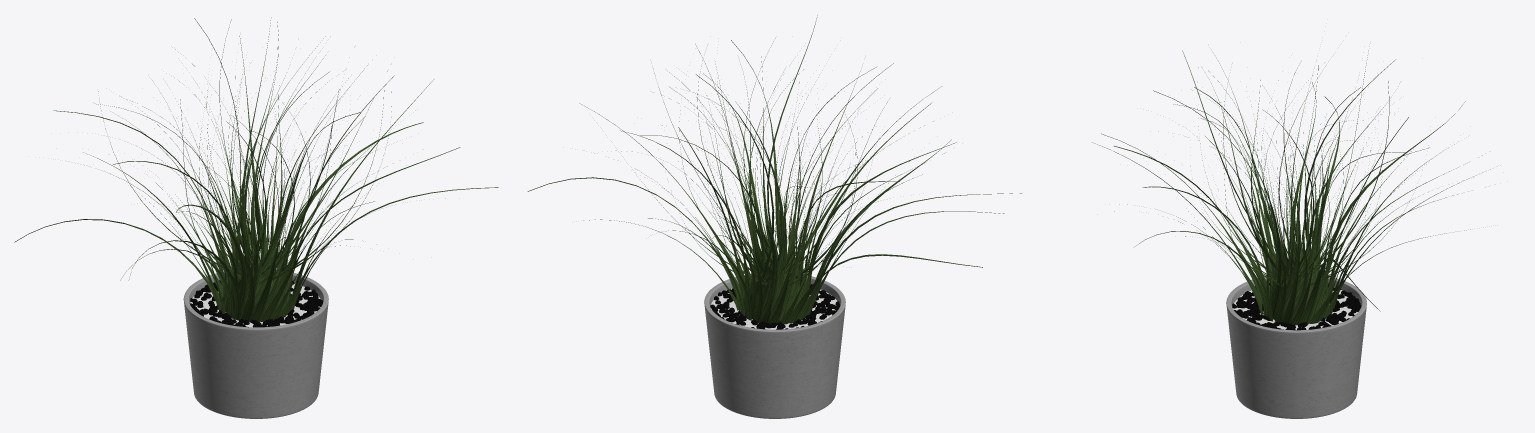
Rendered from plant3.gltf.
3 renders of one model, left to right at view 1: azimuth 30°, elevation 25°; view 2: azimuth 150°, elevation 25°; view 3: azimuth 270°, elevation 25°, orthographic. The views are drawn at different scales.
Parts seen in each view (by area): view 1: plant, pot, pebble, soil; view 2: plant, pot, pebble, soil; view 3: plant, pot, pebble, soil.
Part boxes in pixels (x1,y1,x2,y2): plant: (14,17,498,322); pot: (183,271,328,418); pebble: (189,280,322,327); soil: (190,283,320,327); plant: (527,15,1021,324); pot: (704,273,845,418); pebble: (710,284,840,329); soil: (711,288,837,329); plant: (1092,46,1490,325); pot: (1226,276,1366,418); pebble: (1232,283,1361,330); soil: (1233,290,1357,329).
Size of the model in its own units: 1.46 by 1.13 by 1.39.
Materials: 3 (2 with a texture image).
